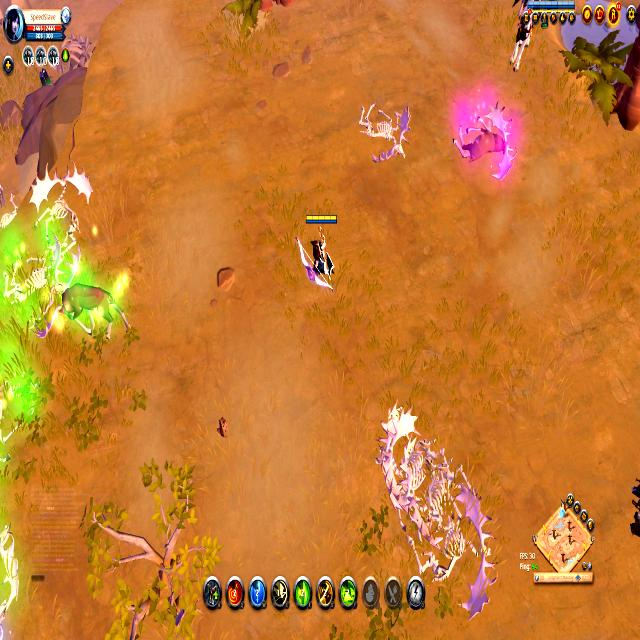mob: (452, 104, 515, 185)
ore: (47, 260, 135, 346)
red: (300, 212, 339, 290), (523, 0, 578, 12)
